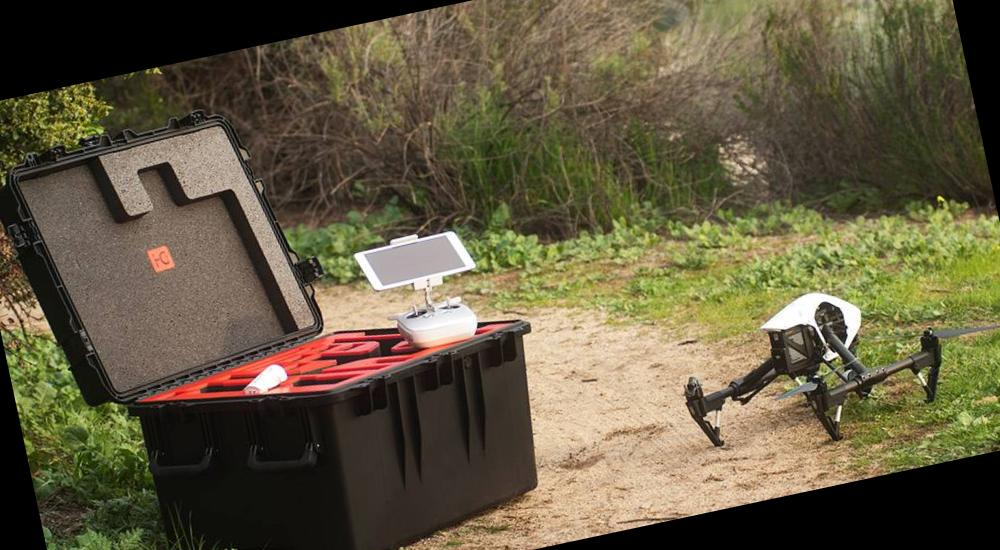drone: (660, 258, 1000, 464)
